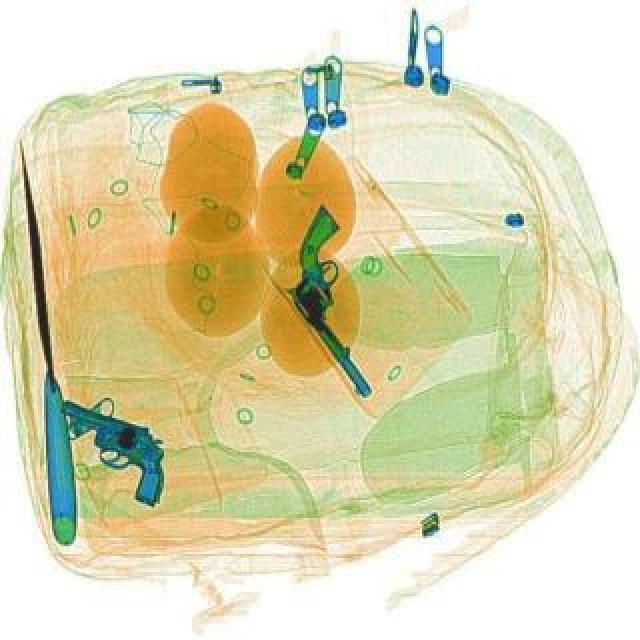gun: (250, 202, 434, 398), (32, 392, 186, 506)
knife: (8, 136, 82, 544)
